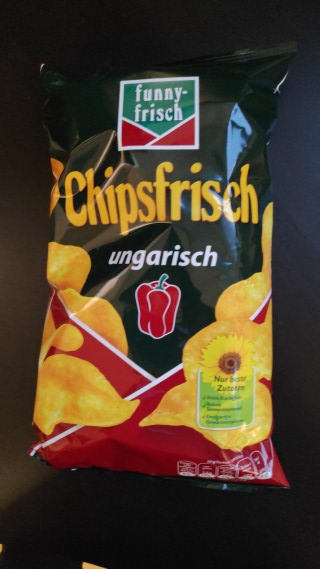chipsfrisch: (23, 41, 296, 494)
